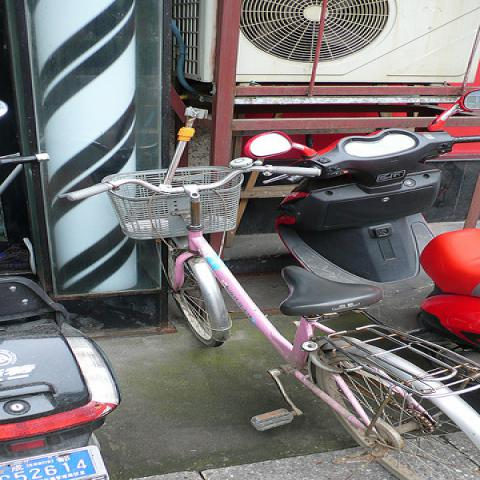motorcycle: (241, 87, 479, 366), (0, 151, 117, 479)
